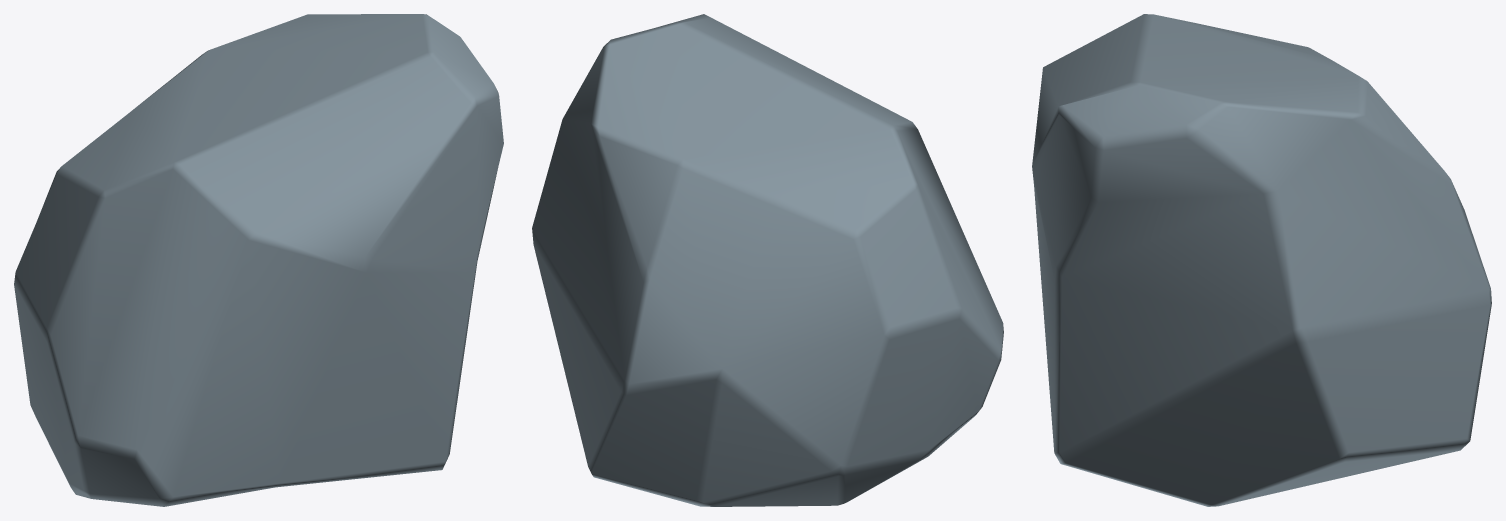
The model's file is PT_Generic_Rock_01.fbx.
The picture shows the model from 3 angles, left to right: view 1: azimuth 30°, elevation 25°; view 2: azimuth 150°, elevation 25°; view 3: azimuth 270°, elevation 25°; orthographic projection. The views are drawn at different scales.
Visible parts, largest first — view 1: PT_Generic_Rock_01_LOD0; view 2: PT_Generic_Rock_01_LOD0; view 3: PT_Generic_Rock_01_LOD0.
Part boxes in pixels (left/top/right/bottom): PT_Generic_Rock_01_LOD0: left=14, top=14, right=503, bottom=506; PT_Generic_Rock_01_LOD0: left=532, top=14, right=1003, bottom=506; PT_Generic_Rock_01_LOD0: left=1032, top=14, right=1491, bottom=506.
Size of what is drawn, in the model's own units: 25.19 by 23.16 by 21.77.
Materials: 1 (1 with a texture image).
